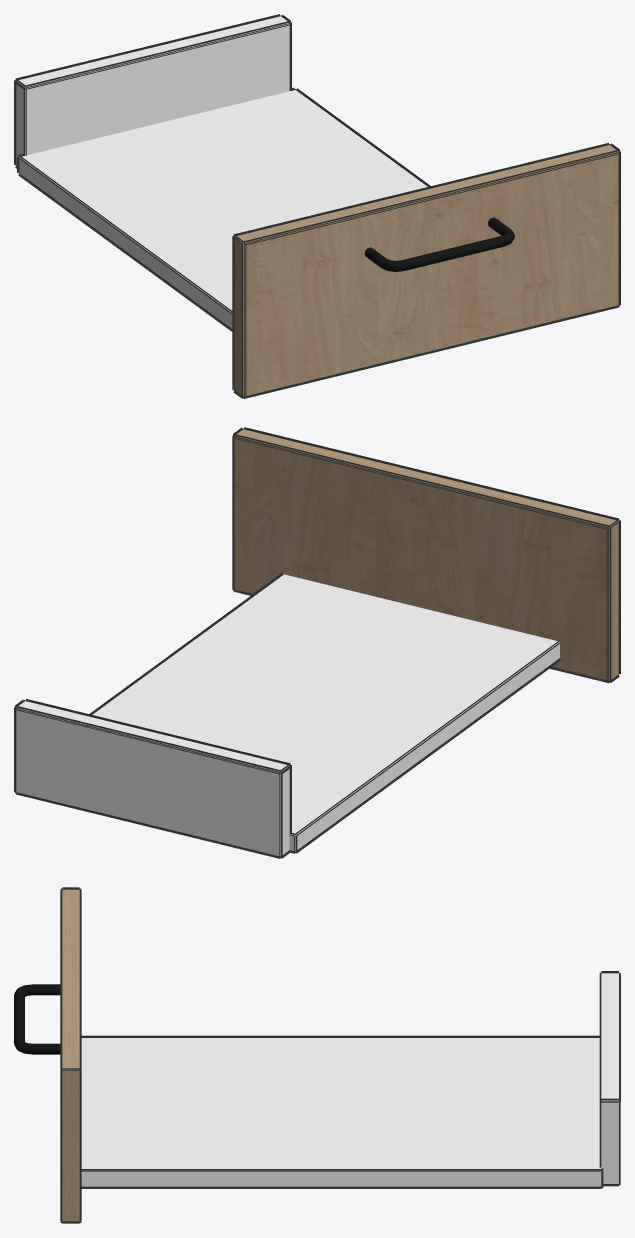
Rendered from skuff3.glb.
The picture shows the model from 3 angles, top to bottom: view 1: azimuth 30°, elevation 25°; view 2: azimuth 150°, elevation 25°; view 3: azimuth 270°, elevation 25°; orthographic projection.
Size of the model in its own units: 393 by 156 by 554.
Materials: 7 (4 with a texture image).
